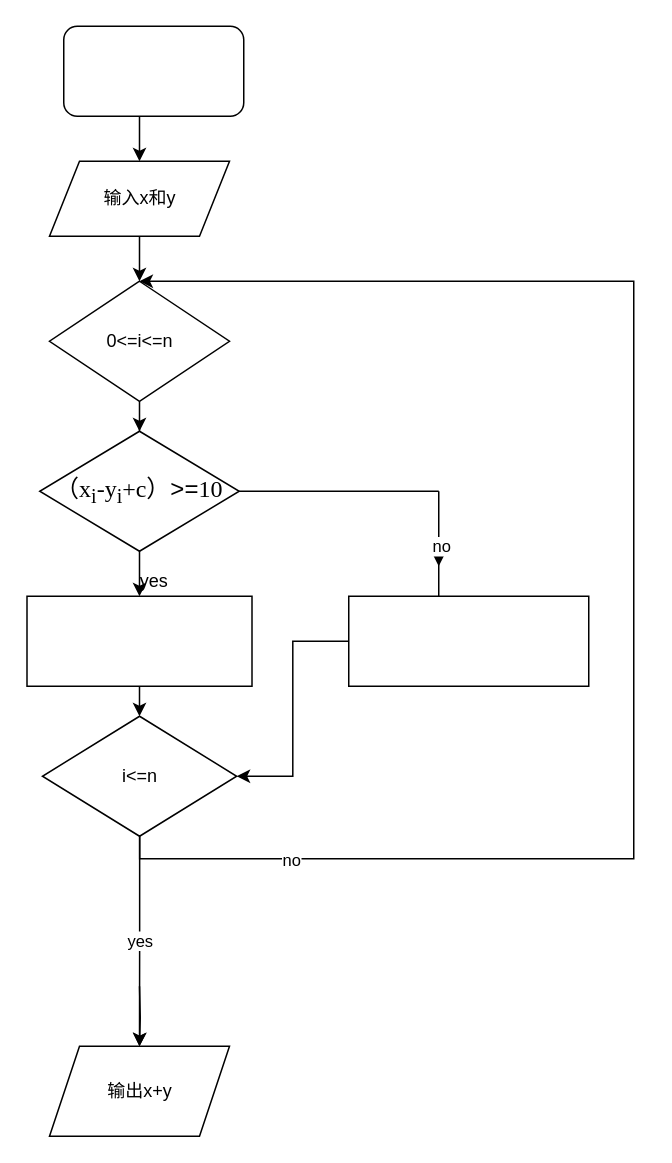
Some shapes in this 672 by 1163 pixel diagram are drawn without their labels. The shapes that lost their labels are listed below. From the top down, each one's centre as x and y in pixels, then its label:
At point 153,70: "开始".
At point 139,640: "w i < —（ x i -y i +c ） c< — 0".
At point 468,640: "w i < —（ x i -y i +c-10 ） c< — - 1".
